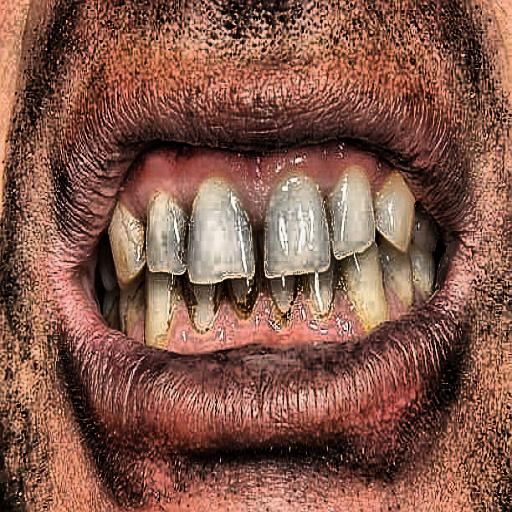Calculus: (114, 263, 401, 362), (96, 167, 272, 260)
